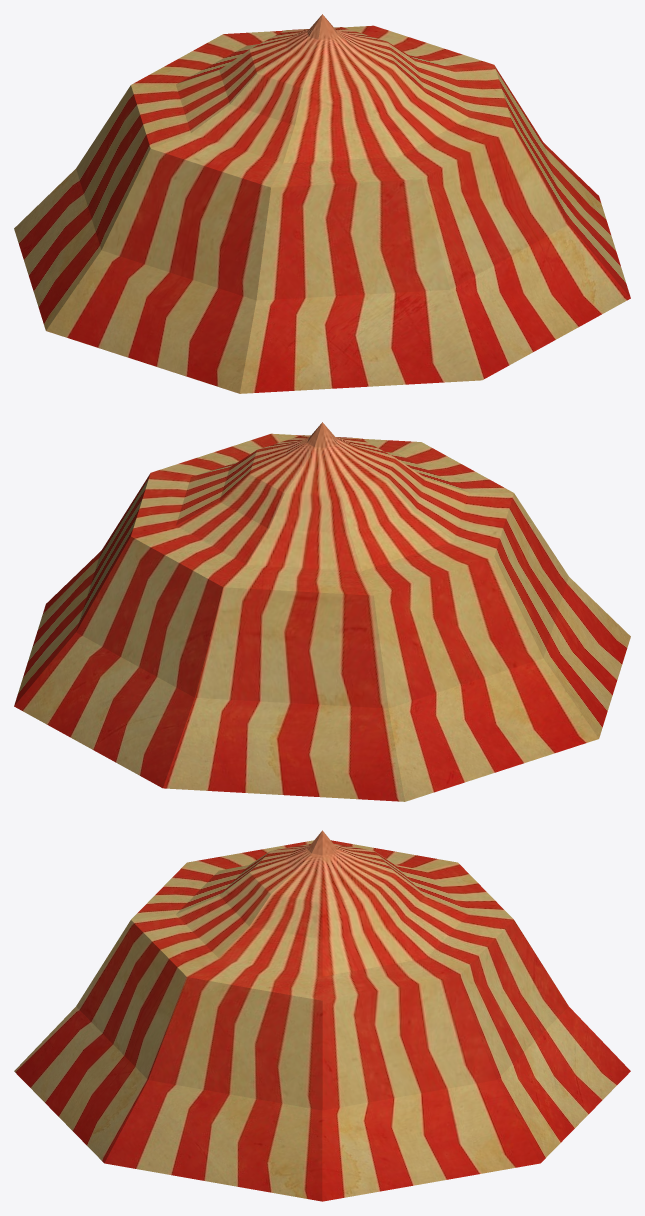
Rendered from tent 1.fbx.
3 views of the same model, one above another, from view 1: azimuth 30°, elevation 25°; view 2: azimuth 150°, elevation 25°; view 3: azimuth 270°, elevation 25° (orthographic). The views are drawn at different scales.
Visible parts, largest first — view 1: Cylinder; view 2: Cylinder; view 3: Cylinder.
Boxes of the visible parts, bbox=[...] form: Cylinder: bbox=[14, 14, 630, 393]; Cylinder: bbox=[14, 422, 630, 801]; Cylinder: bbox=[14, 830, 630, 1201].
Size of the model in its own units: 8468 by 3649 by 8468.
1 material, 1 textured.
